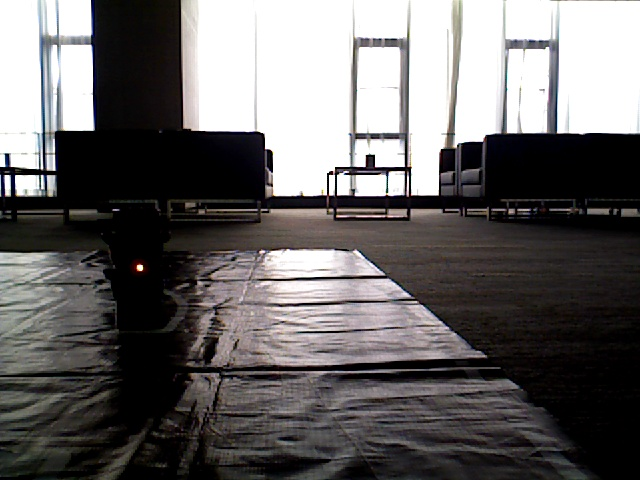yellow: (118, 210, 164, 322)
